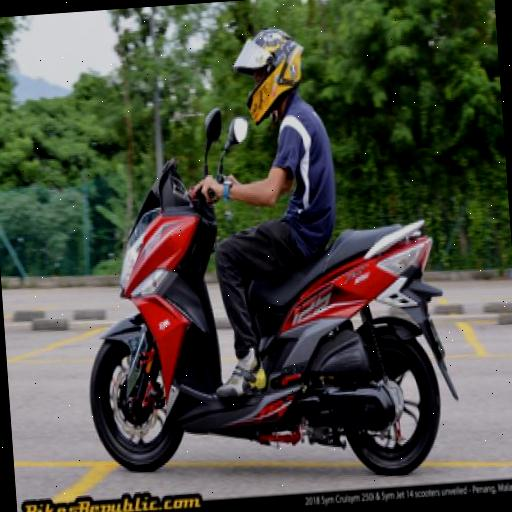helmet: (86, 2, 358, 447)
